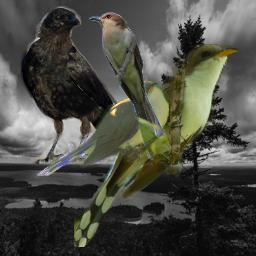Crow: (18, 6, 142, 164)
Cuckoo: (74, 44, 239, 247), (35, 81, 169, 176), (89, 12, 167, 160)
